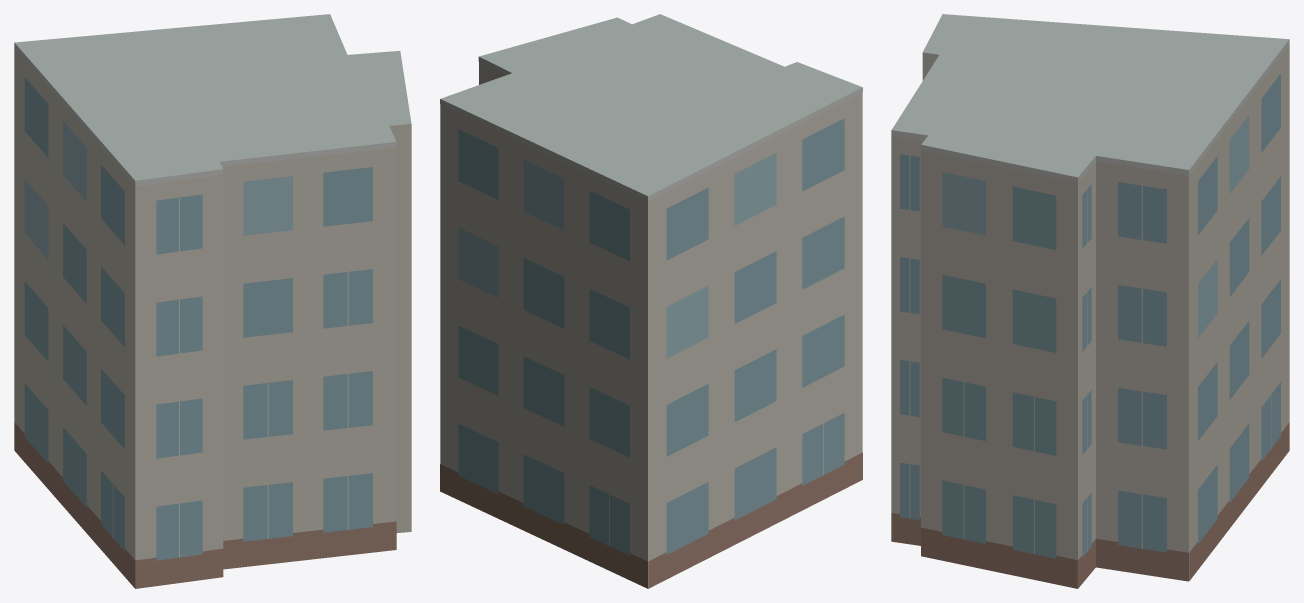
File: survey-upis-32695380.glb
3 renders of one model, left to right at view 1: azimuth 30°, elevation 25°; view 2: azimuth 150°, elevation 25°; view 3: azimuth 270°, elevation 25°, orthographic. The views are drawn at different scales.
Parts seen in each view (by area): view 1: survey-upis-32695380.tmp; view 2: survey-upis-32695380.tmp; view 3: survey-upis-32695380.tmp.
Part boxes in pixels (bbox=[...]): survey-upis-32695380.tmp: bbox=[14, 14, 411, 588]; survey-upis-32695380.tmp: bbox=[440, 14, 862, 588]; survey-upis-32695380.tmp: bbox=[891, 14, 1289, 588].
Size of the model in its own units: 15.21 by 17.85 by 15.66.
